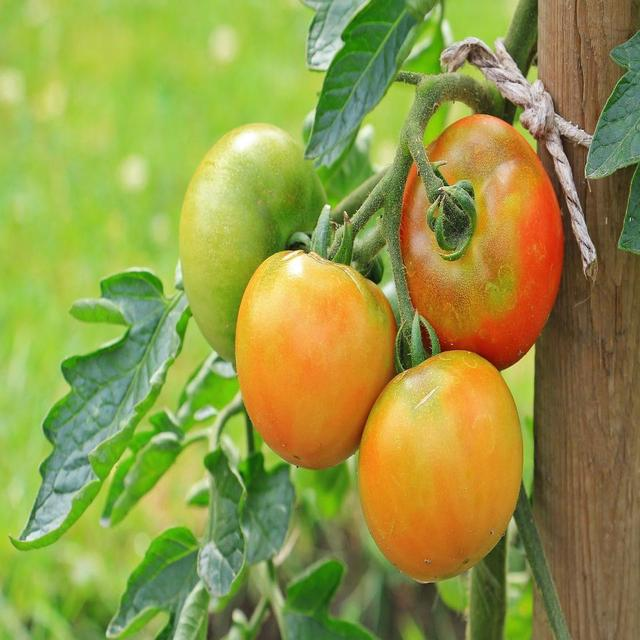Spotted wilt Virus Fruit: (160, 94, 286, 274)
